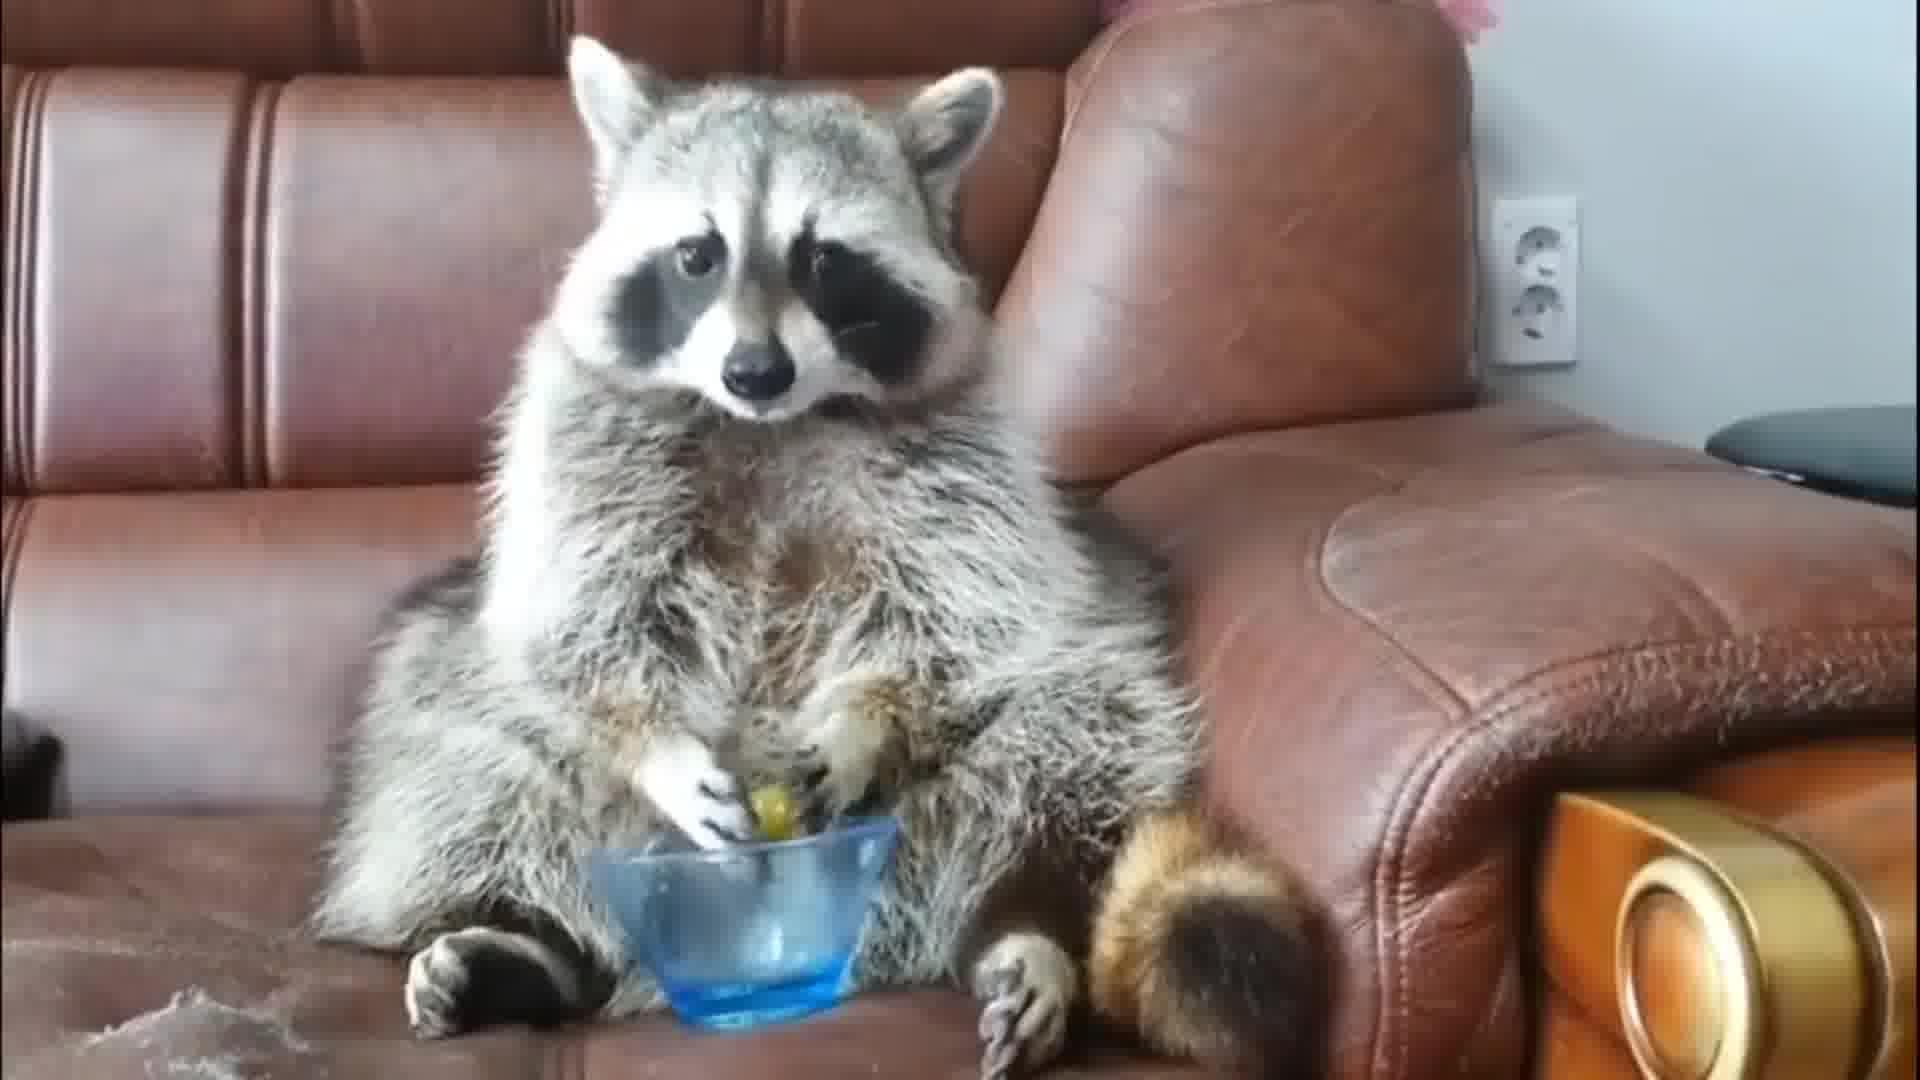raccoon: (305, 30, 1336, 1080)
